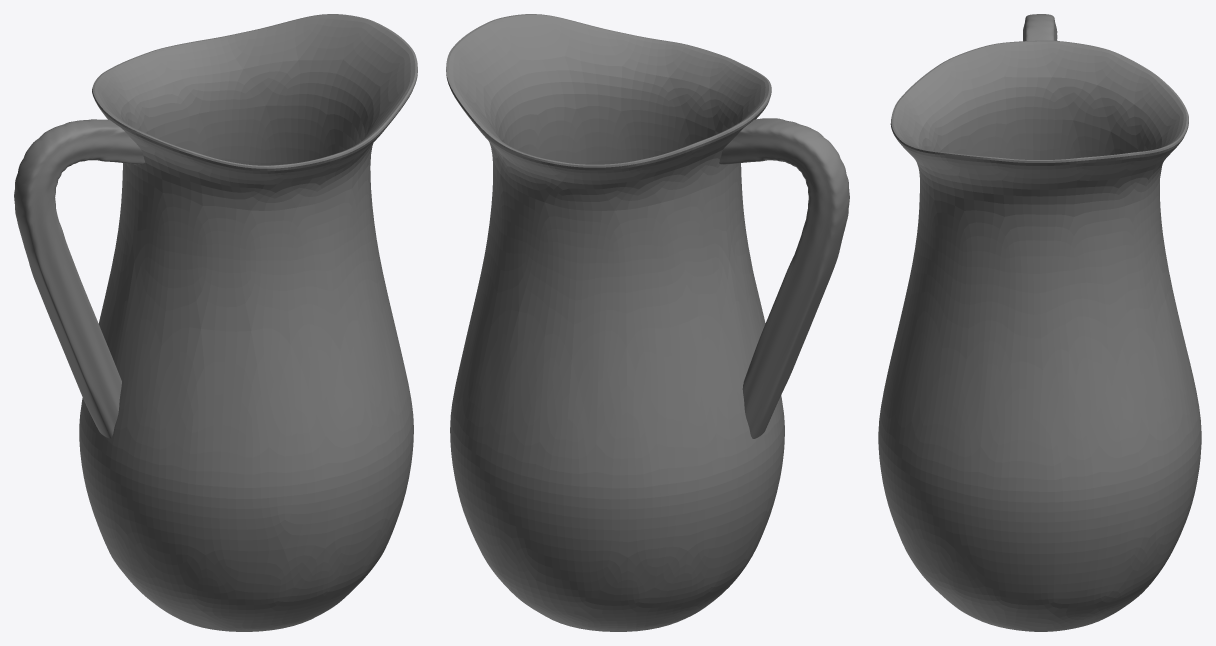
The model's file is mv_JugA.fbx.
3 renders of one model, left to right at view 1: azimuth 30°, elevation 25°; view 2: azimuth 150°, elevation 25°; view 3: azimuth 270°, elevation 25°, orthographic. The views are drawn at different scales.
Parts seen in each view (by area): view 1: JugA_LOD0; view 2: JugA_LOD0; view 3: JugA_LOD0.
Part boxes in pixels (x1,y1,x2,y2): JugA_LOD0: [14, 14, 417, 631]; JugA_LOD0: [446, 14, 849, 631]; JugA_LOD0: [878, 14, 1201, 631].
Size of what is drawn, in the model's own units: 23.57 by 31.16 by 18.06.
